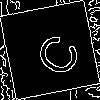C: (25, 25, 84, 81)
